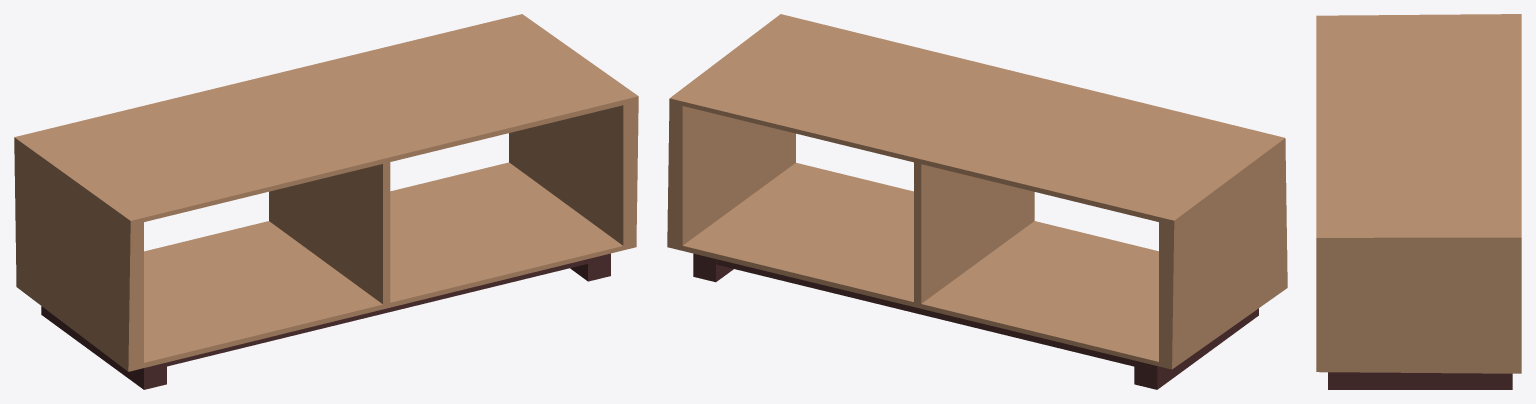
Rendered from coffee_table.fbx.
The picture shows the model from 3 angles, left to right: view 1: azimuth 30°, elevation 25°; view 2: azimuth 150°, elevation 25°; view 3: azimuth 270°, elevation 25°; orthographic projection. The views are drawn at different scales.
Parts seen in each view (by area): view 1: Cube, Cube.001; view 2: Cube, Cube.001; view 3: Cube, Cube.001.
Part boxes in pixels (x1,y1,x2,y2): Cube: (14, 14, 638, 371); Cube.001: (41, 253, 610, 389); Cube: (667, 14, 1287, 369); Cube.001: (693, 253, 1258, 389); Cube: (1316, 14, 1521, 373); Cube.001: (1328, 372, 1512, 389).
Size of the model in its own units: 106 by 35.56 by 41.01.
